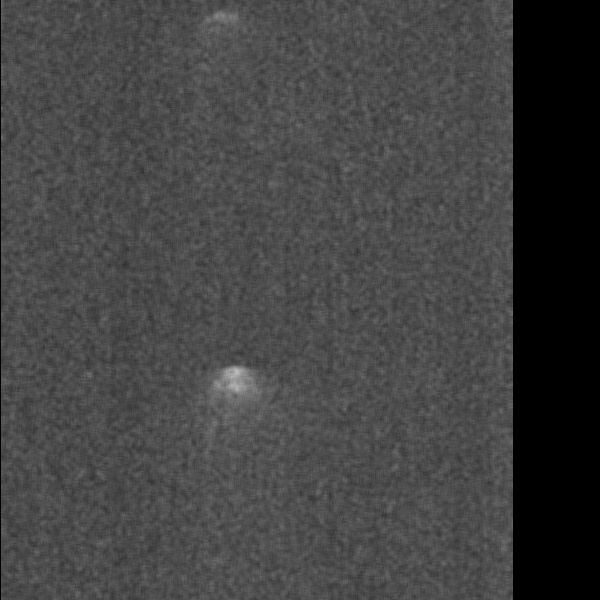spark: (193, 143, 216, 170), (381, 196, 401, 224)
